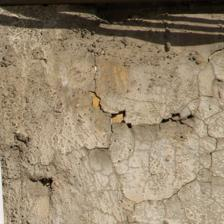Crack: (45, 0, 155, 113), (16, 53, 120, 123), (41, 0, 107, 82), (67, 76, 150, 100)
